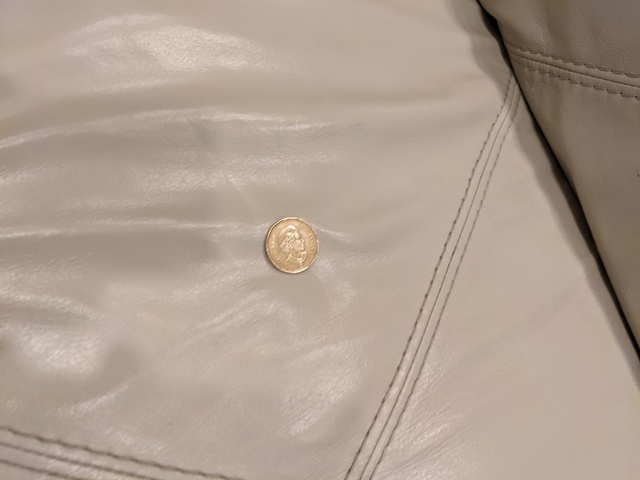loonie: (251, 214, 323, 280)
